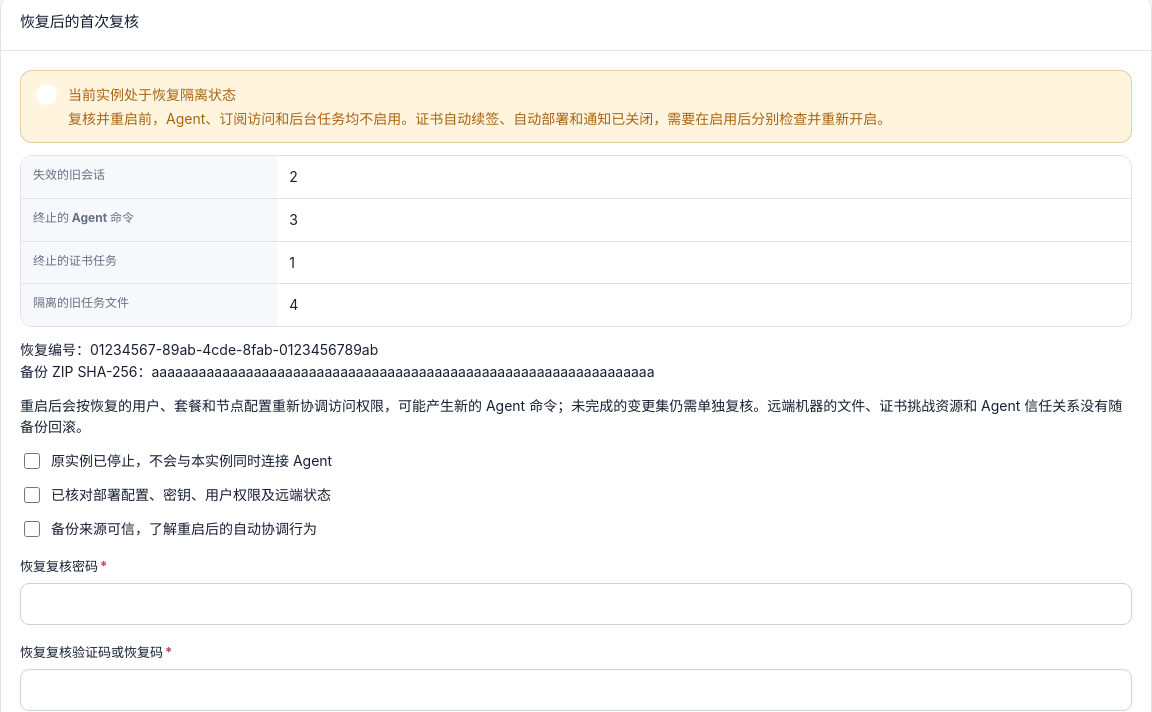
Scenario: reconciles a lost receipt using GET without replaying proof
Click the checkbox labelled "原实例已停止，不会与本实例同时连接 Agent". click: (32, 461)
box: [24,453,40,469]
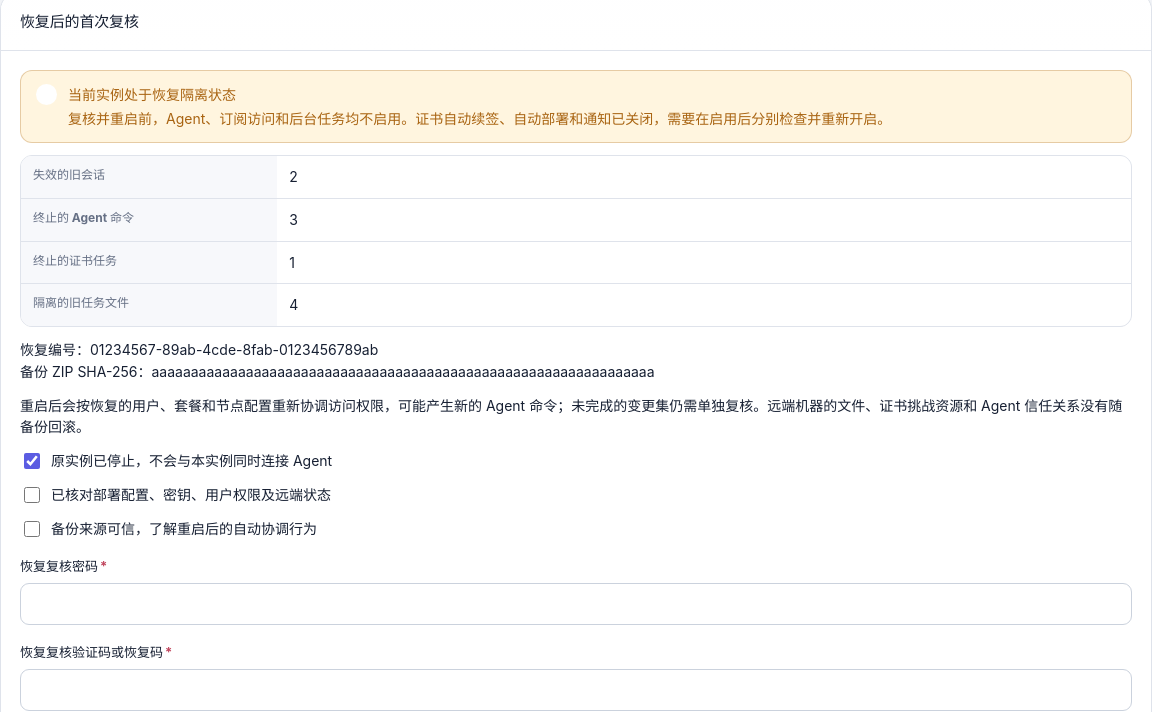
Click the checkbox labelled "已核对部署配置、密钥、用户权限及远端状态". click: (32, 495)
box: [24,487,40,503]
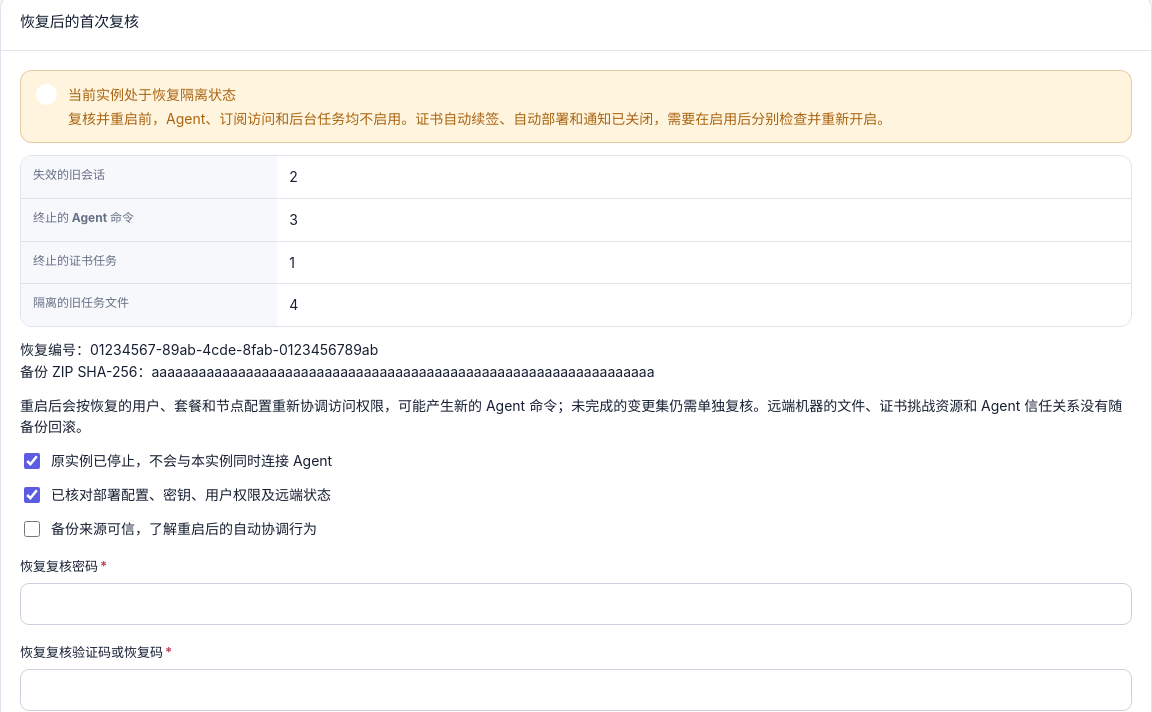
Click the checkbox labelled "备份来源可信，了解重启后的自动协调行为". click: (32, 529)
box: [24,521,40,537]
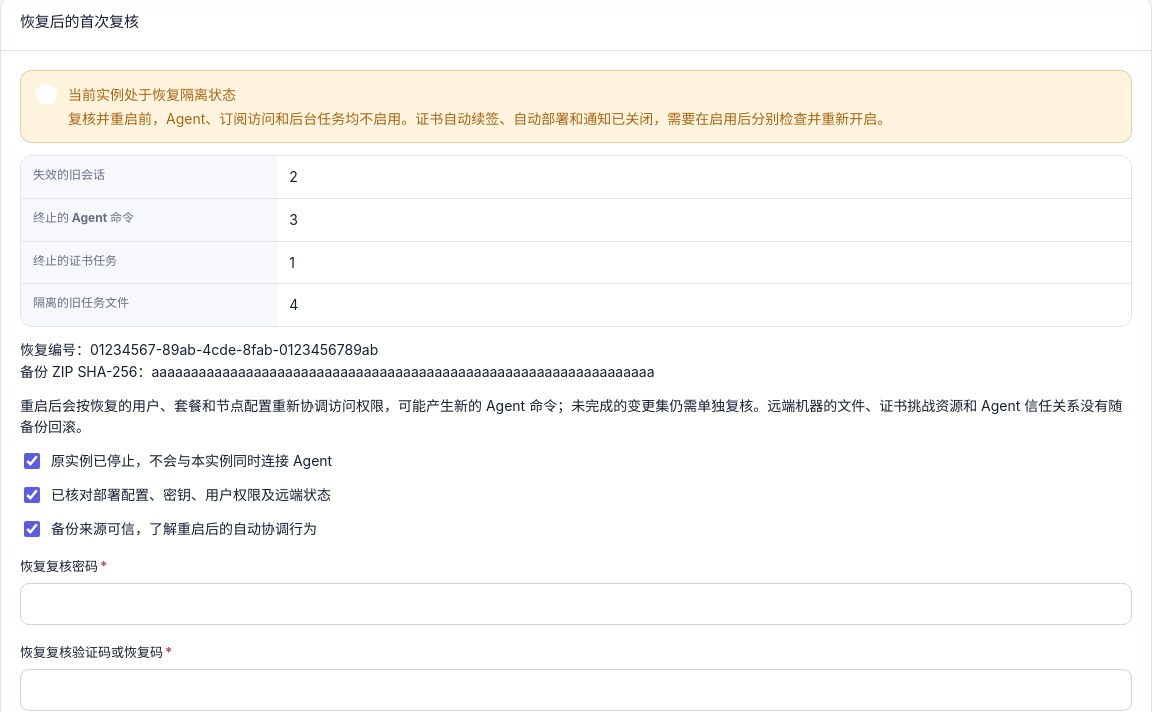
Type "PRIVATE-password" into the password field labelled "恢复复核密码". click: (576, 604)
box: [20,583,1132,625]
Type "123456" into the field labelled "恢复复核验证码或恢复码". click: (576, 690)
box: [20,669,1132,711]
(page scrolled)
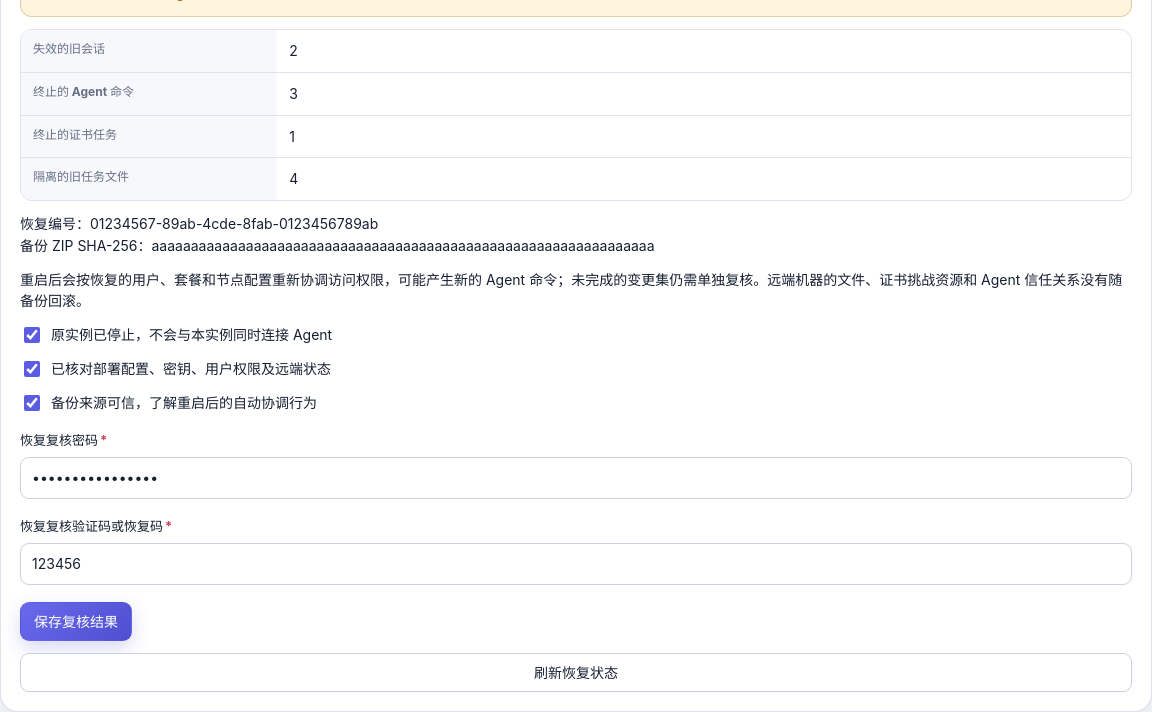
Submit the form named "保存复核结果", box [20,324,1132,641]
(page scrolled)
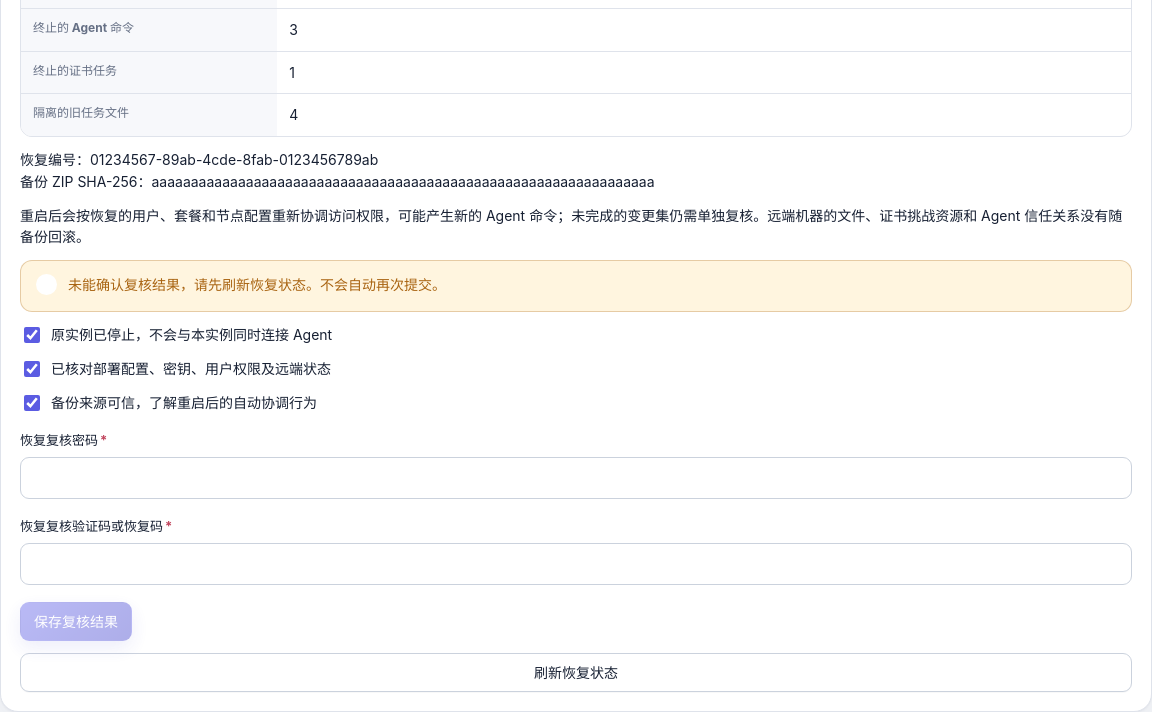
Expected: the text "PRIVATE" is not shown
Click the button "刷新恢复状态". click: (576, 672)
box: [20,653,1132,692]
(page scrolled)
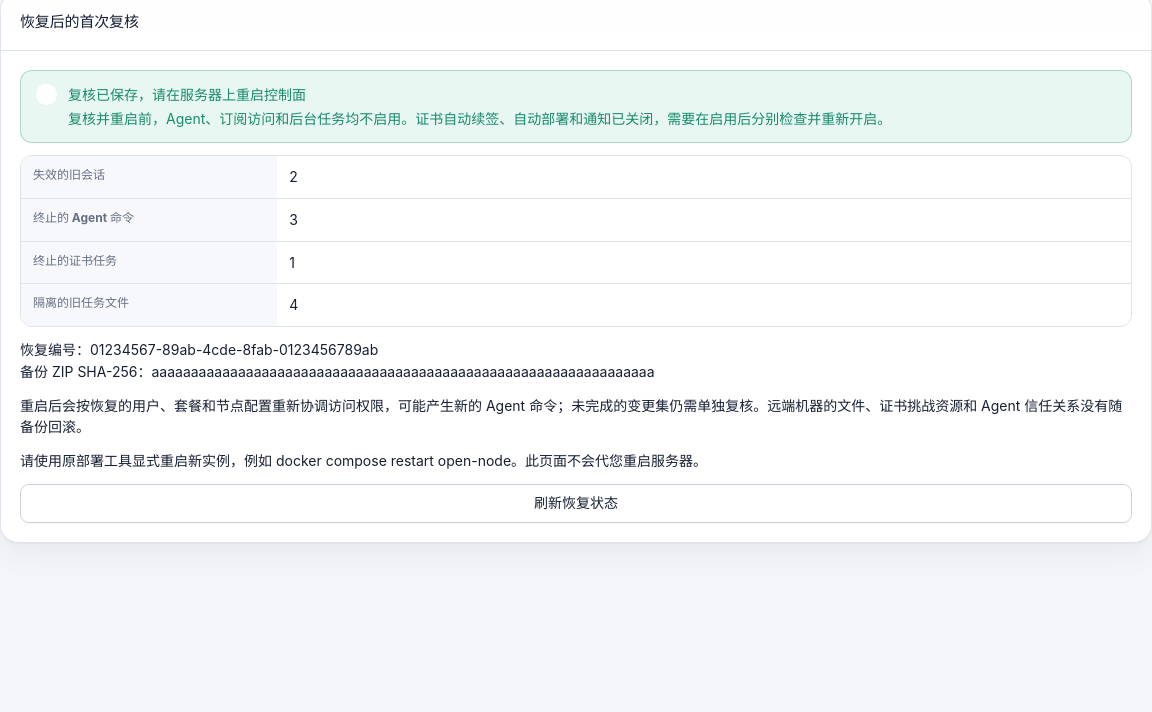
Result: the text "复核已保存，请在服务器上重启控制面" is shown at [68,86,306,103]
